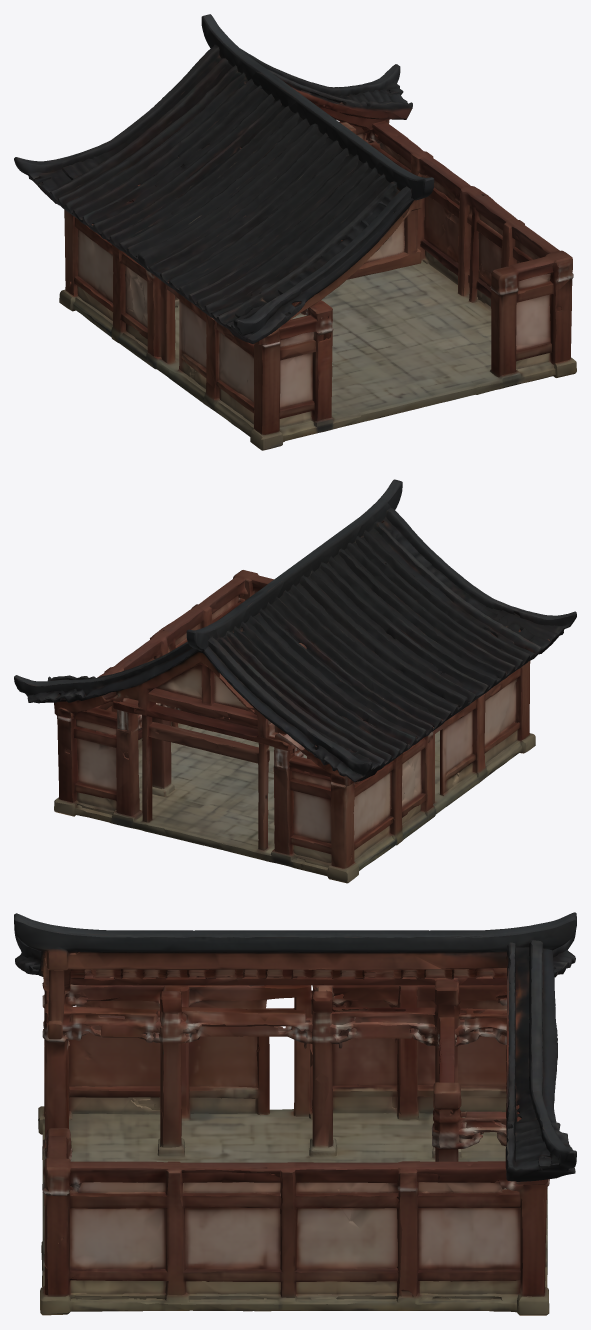
Rendered from main-hall-turbo.glb.
The picture shows the model from 3 angles, top to bottom: view 1: azimuth 30°, elevation 25°; view 2: azimuth 150°, elevation 25°; view 3: azimuth 270°, elevation 25°; orthographic projection. The views are drawn at different scales.
Visible parts, largest first — view 1: world; view 2: world; view 3: world.
Part boxes in pixels (bbox=[...]): world: bbox=[14, 14, 576, 450]; world: bbox=[14, 479, 576, 883]; world: bbox=[14, 912, 576, 1315].
Size of the model in its own units: 8 by 4.81 by 8.06.
1 material, 1 textured.
